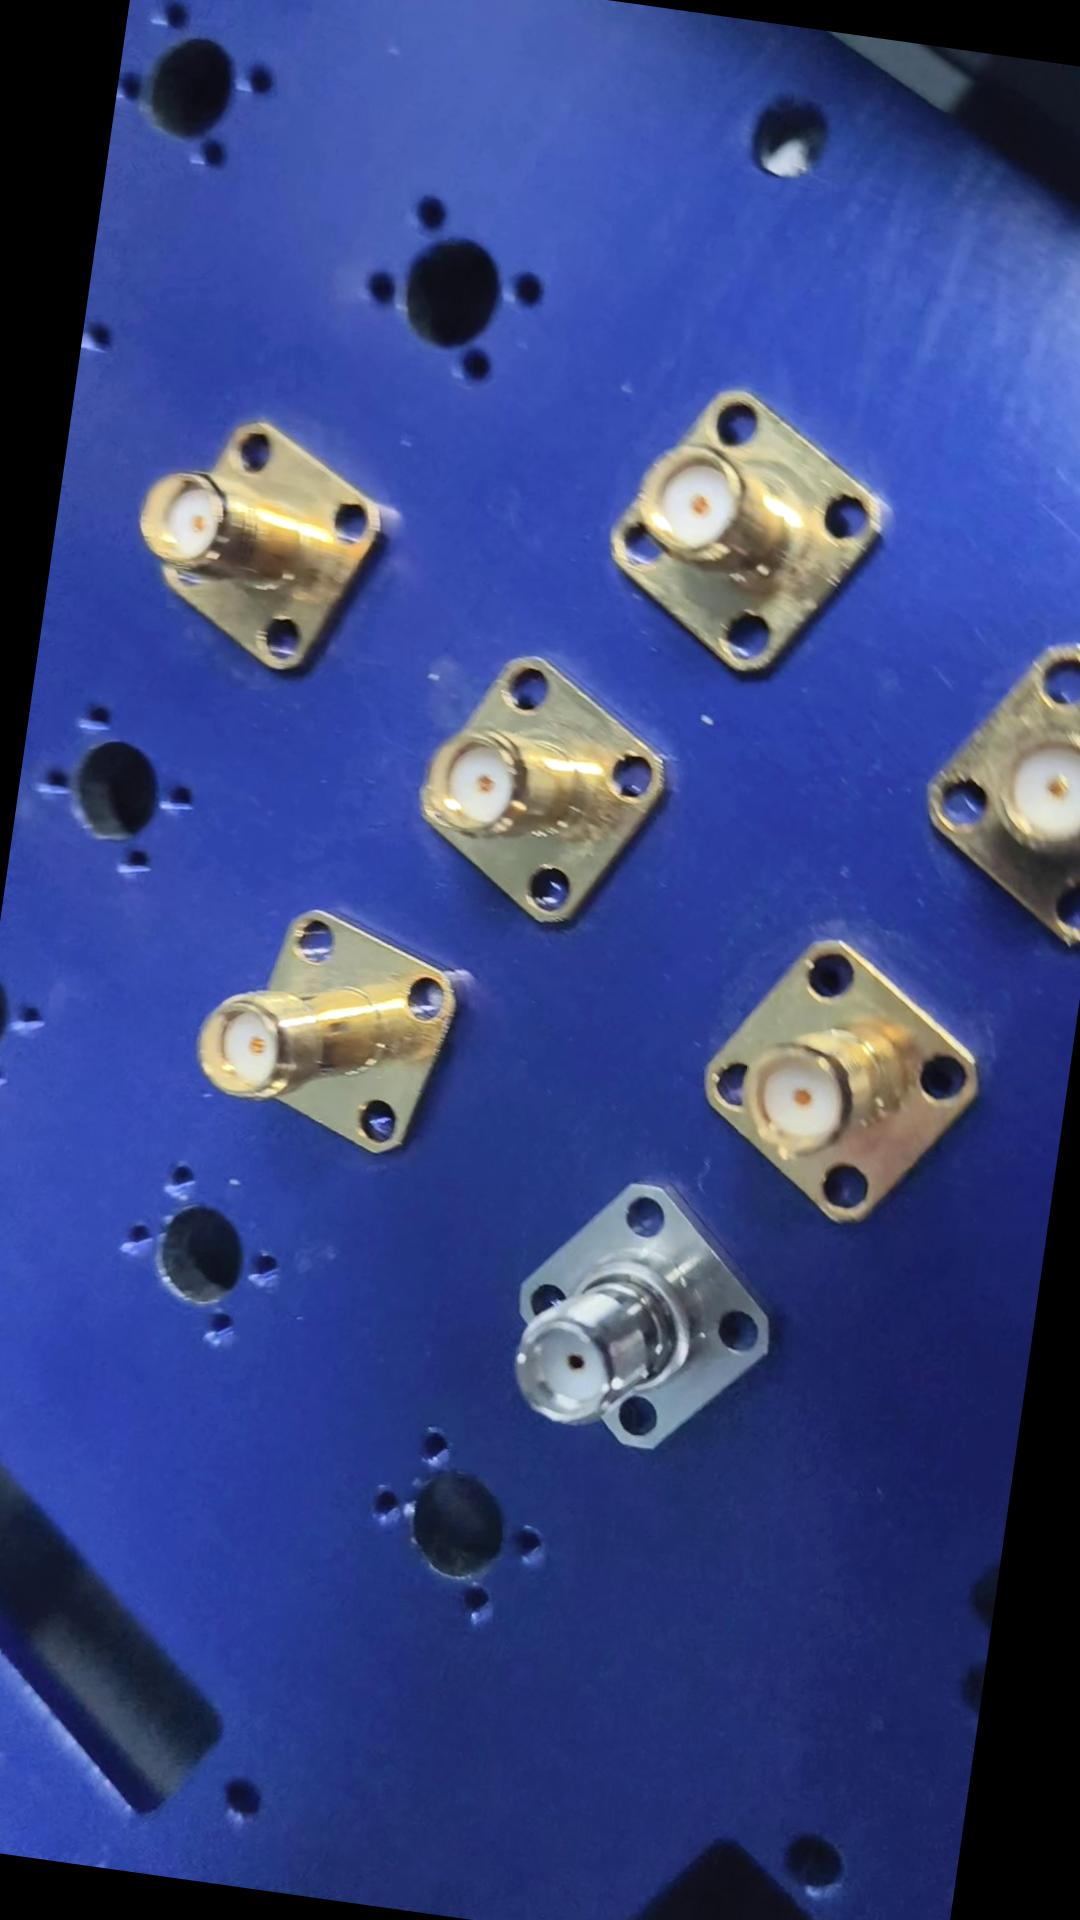SMA: (676, 909, 993, 1240), (485, 1149, 787, 1477), (593, 371, 889, 692), (394, 636, 669, 942), (120, 405, 400, 694), (177, 895, 468, 1168)
